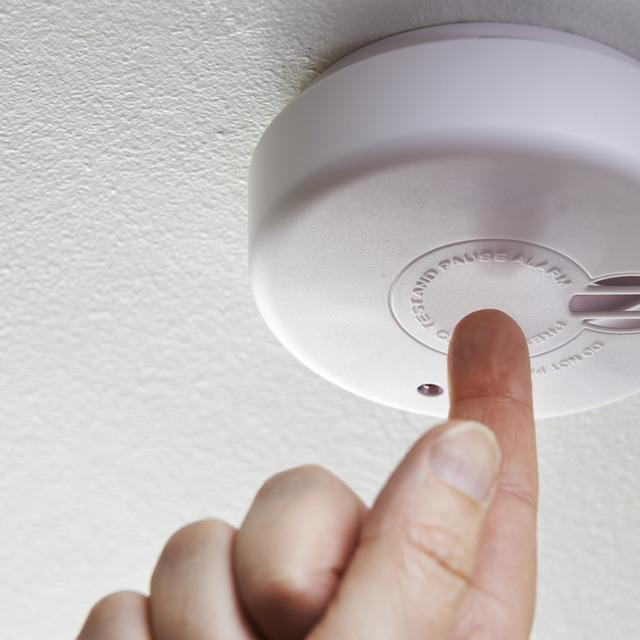Smoke-Detector: (242, 31, 640, 413)
